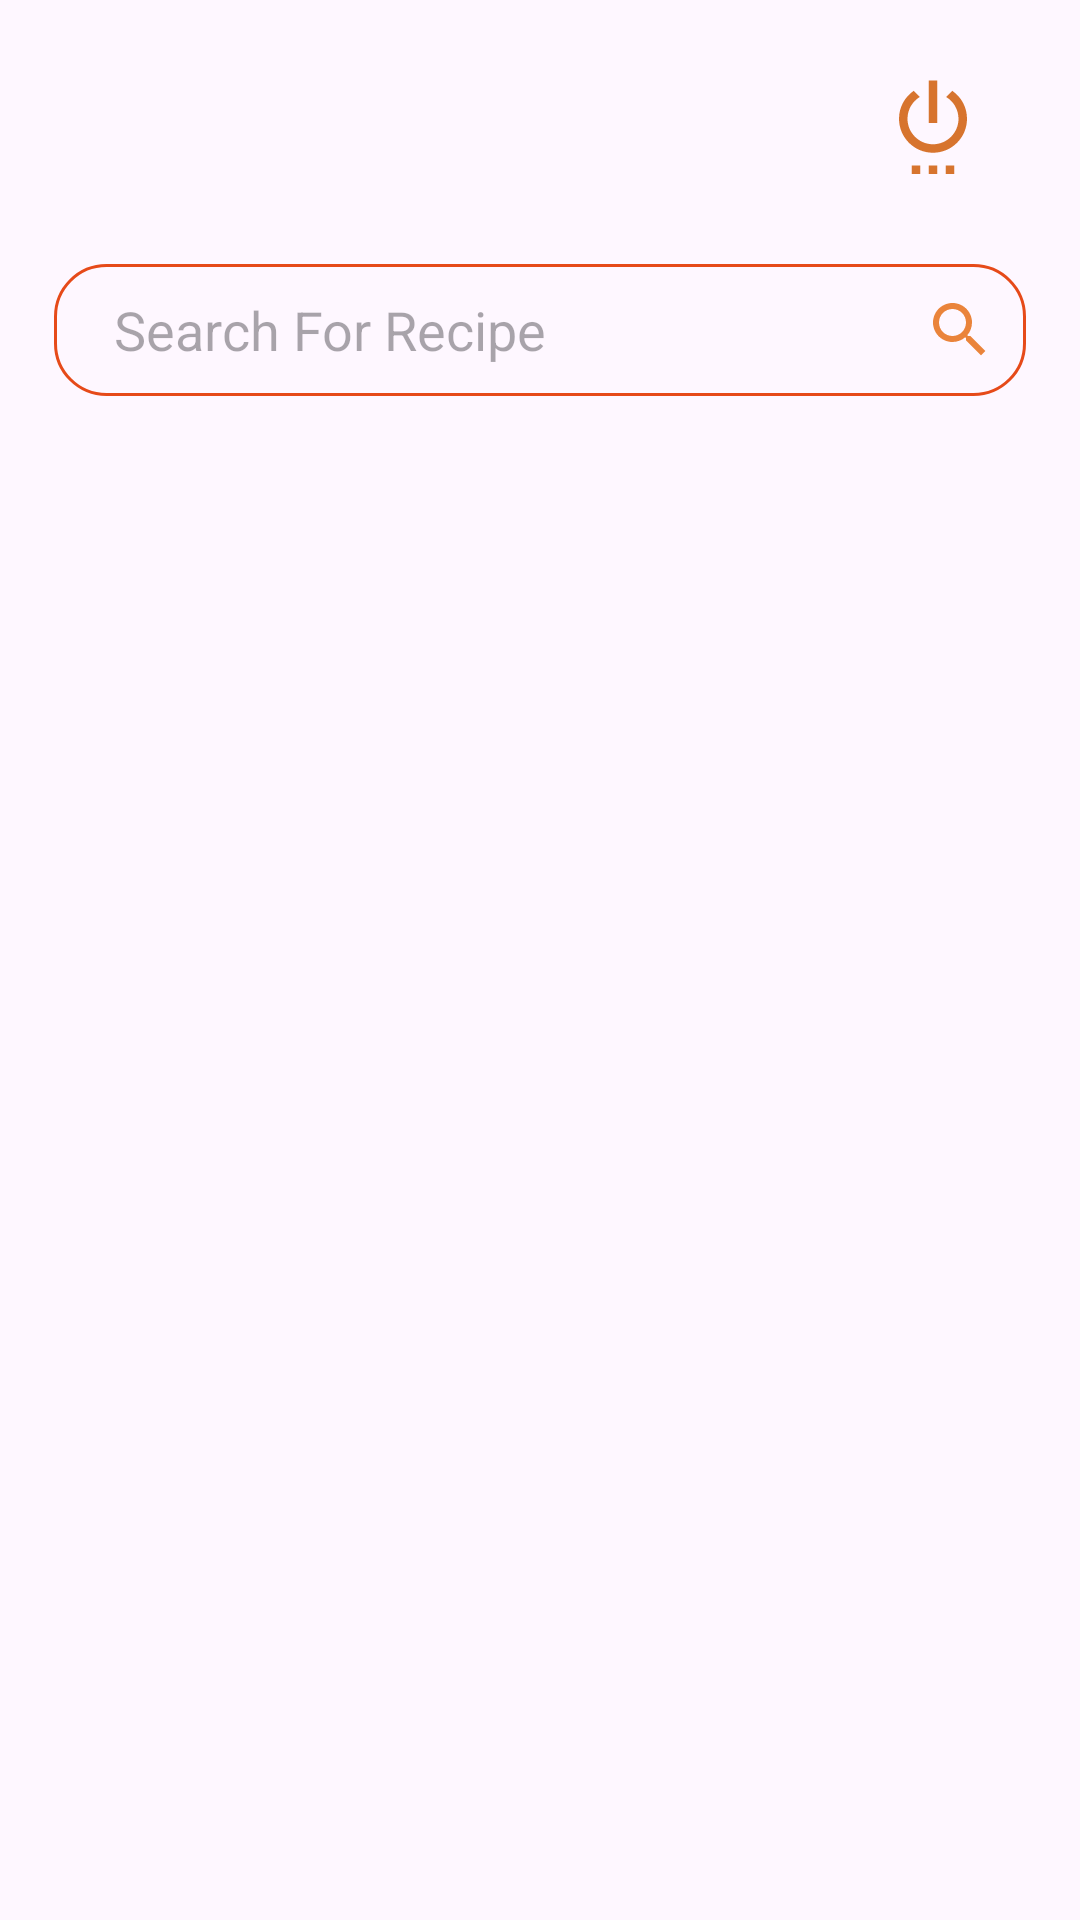

Icon bounding boxes for this 1080*1920 phone screenshot, format {"x1": x1, "y1": y1, "x2": x2, "y2": y2}:
settings power: {"x1": 899, "y1": 80, "x2": 967, "y2": 174}
